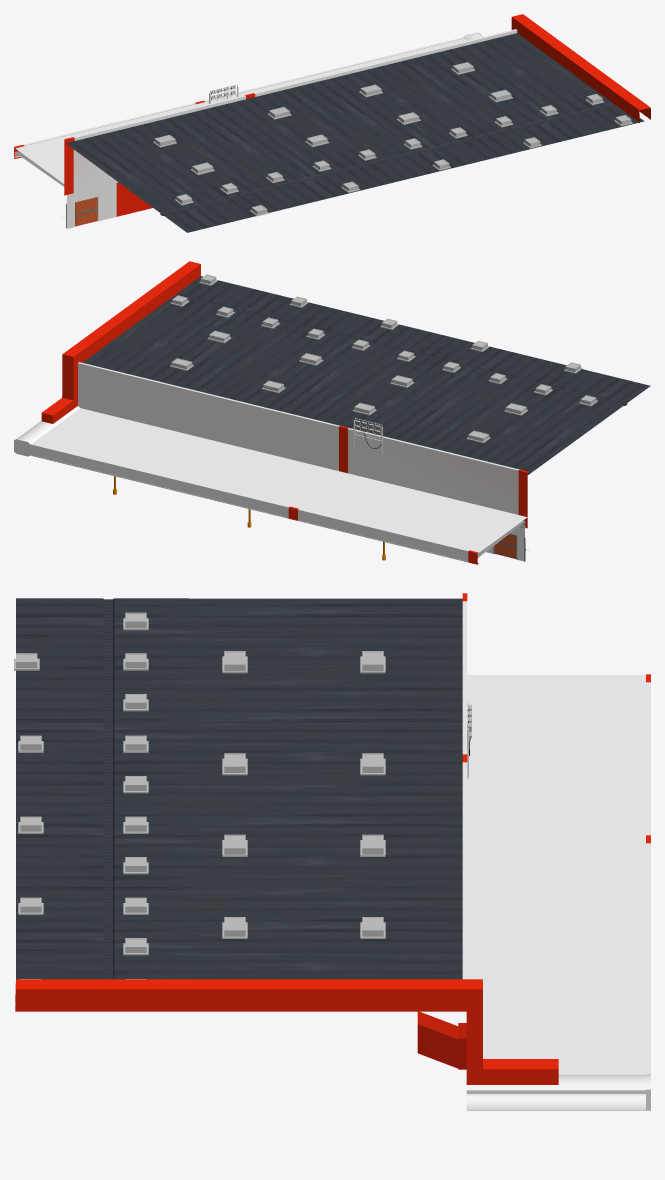
File: SM_TNTBuilding_Part06.fbx
3 views of the same model, one above another, from view 1: azimuth 30°, elevation 25°; view 2: azimuth 150°, elevation 25°; view 3: azimuth 270°, elevation 25° (orthographic). The views are drawn at different scales.
Visible parts, largest first — view 1: SM_TNTBuilding_Part06_LOD0; view 2: SM_TNTBuilding_Part06_LOD0; view 3: SM_TNTBuilding_Part06_LOD0.
Boxes of the visible parts, left/top/right/bottom form: SM_TNTBuilding_Part06_LOD0: left=14, top=14, right=650, bottom=232; SM_TNTBuilding_Part06_LOD0: left=14, top=261, right=650, bottom=564; SM_TNTBuilding_Part06_LOD0: left=14, top=593, right=650, bottom=1110.
Size of what is drawn, in the model's own units: 9484 by 1988 by 6111.
